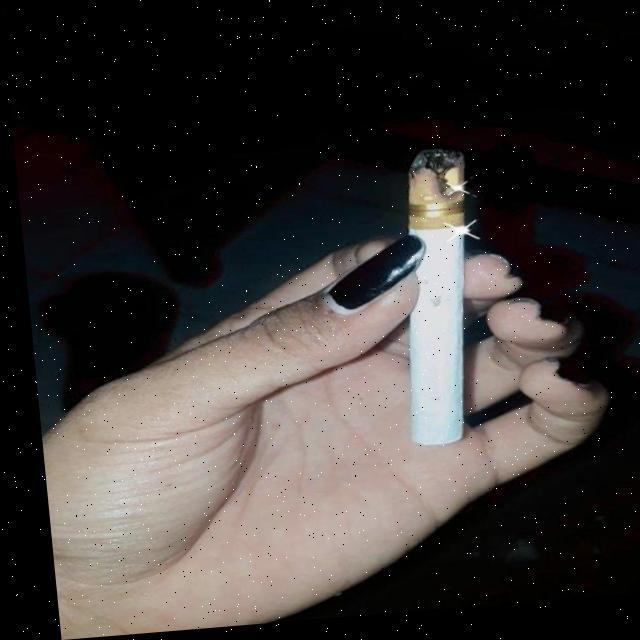cigarette: (378, 153, 484, 455)
